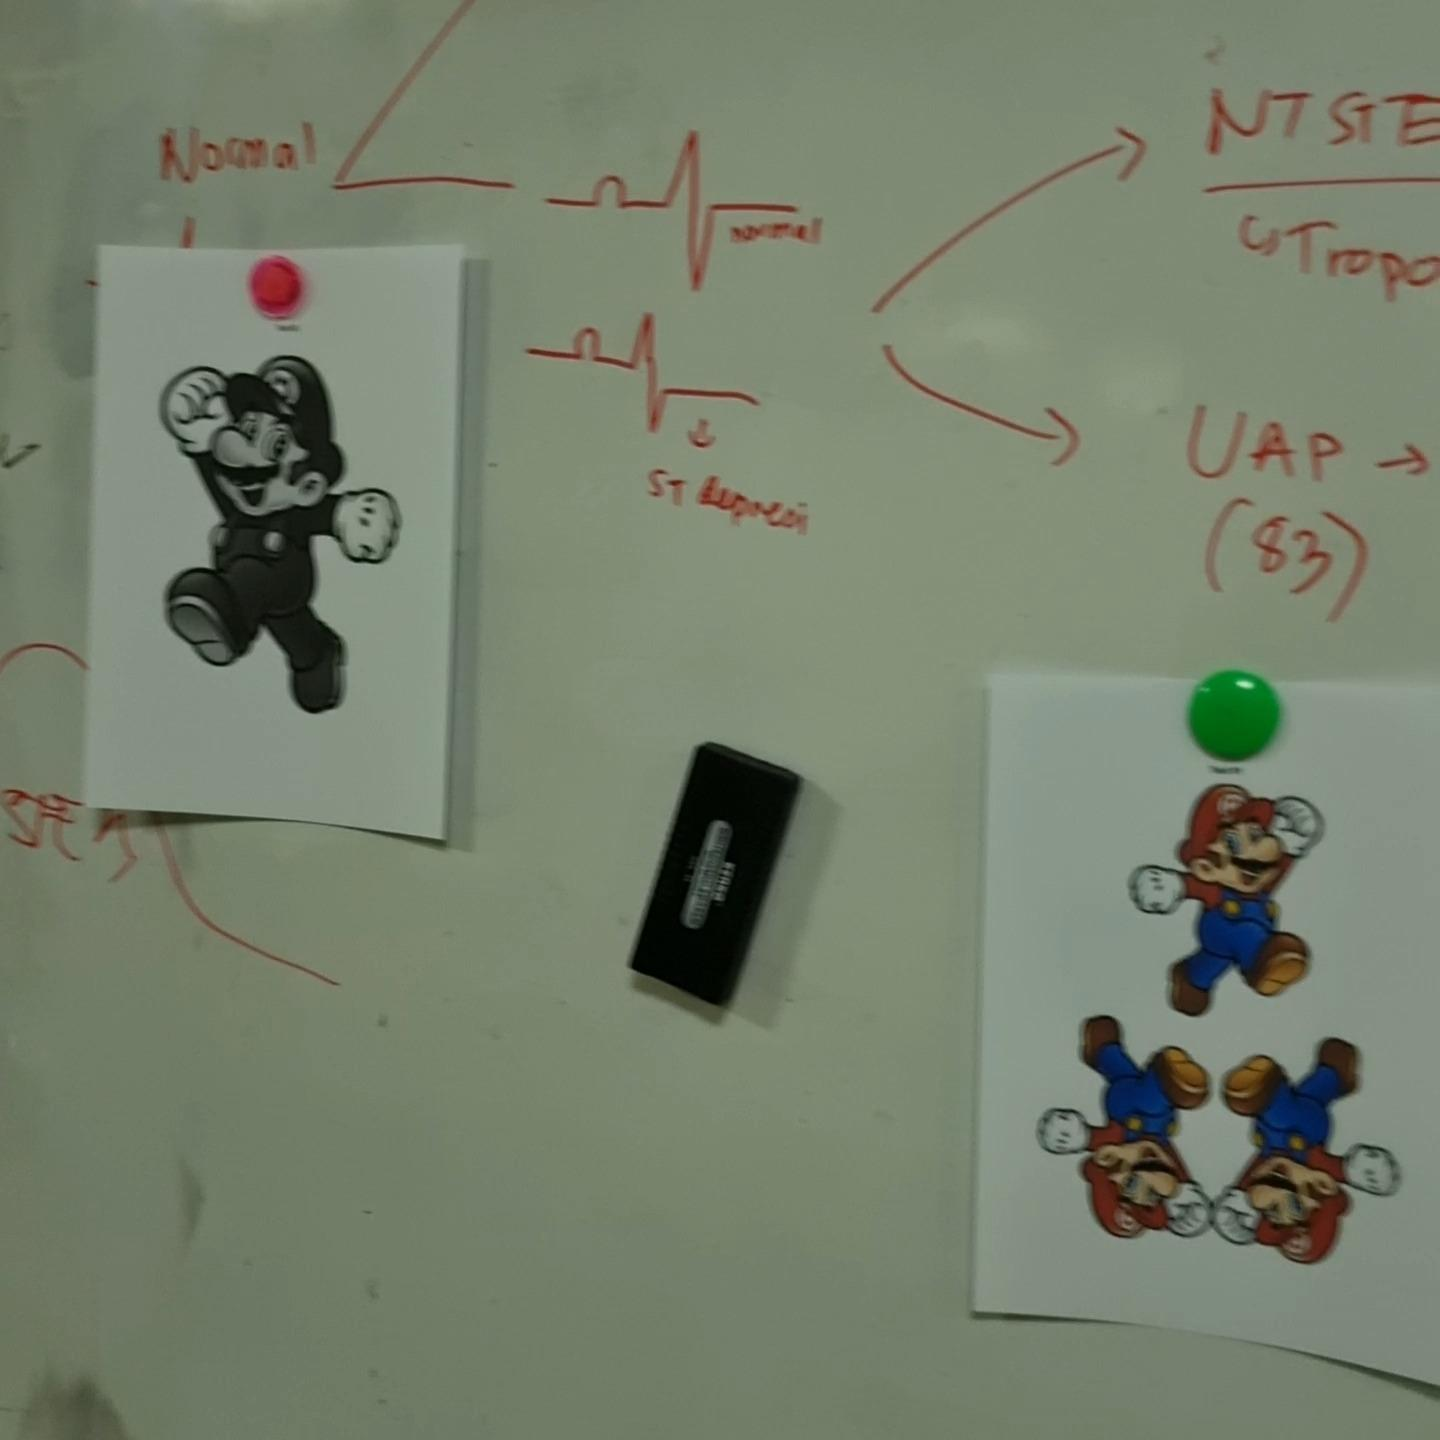mario: (146, 342, 407, 729), (1208, 1033, 1416, 1282), (1126, 771, 1335, 1019), (1036, 1006, 1215, 1253)
